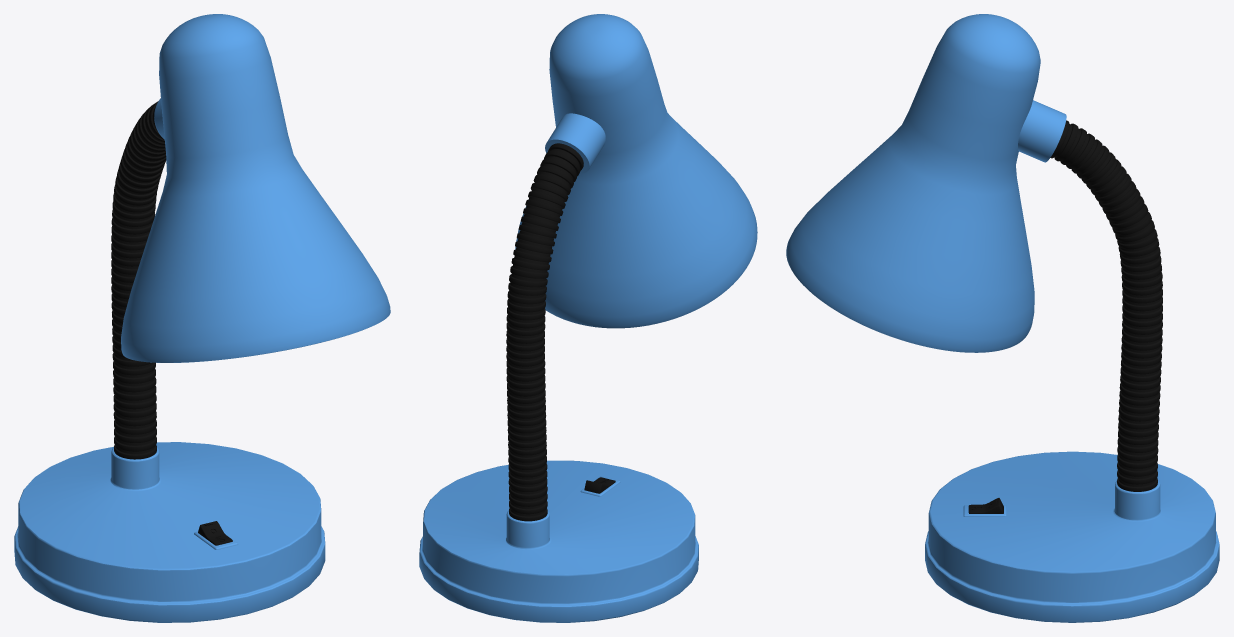
The model's file is lamp.fbx.
The picture shows the model from 3 angles, left to right: view 1: azimuth 30°, elevation 25°; view 2: azimuth 150°, elevation 25°; view 3: azimuth 270°, elevation 25°; orthographic projection. The views are drawn at different scales.
Visible parts, largest first — view 1: lamp, lamp stand, tube, on off; view 2: lamp, lamp stand, tube; view 3: lamp, lamp stand, tube.
Part boxes in pixels (<box>): lamp: <box>121,14,390,362</box>; lamp stand: <box>14,442,325,622</box>; tube: <box>111,101,166,459</box>; on off: <box>198,521,232,545</box>; lamp: <box>515,14,757,328</box>; lamp stand: <box>419,460,698,622</box>; tube: <box>506,143,583,521</box>; lamp: <box>786,14,1066,352</box>; lamp stand: <box>925,451,1219,622</box>; tube: <box>1050,120,1162,491</box>.
Size of the model in its own units: 35.86 by 72.66 by 52.72.
